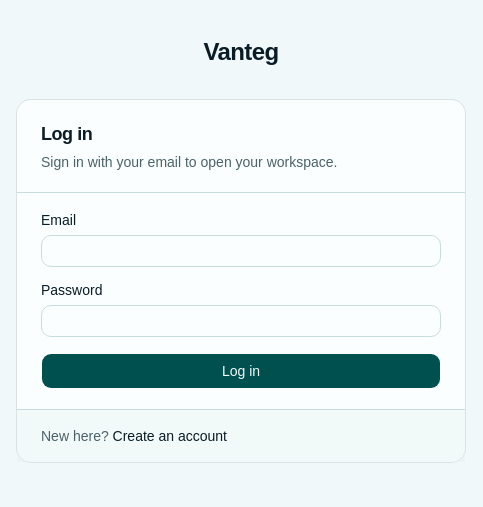
Test: LoginPage › stays on login and shows an error when the session cannot be stored
Type "alex@vanteg.test" into the field labelled "Email". click: (241, 251)
box: 41,235 -> 441,267
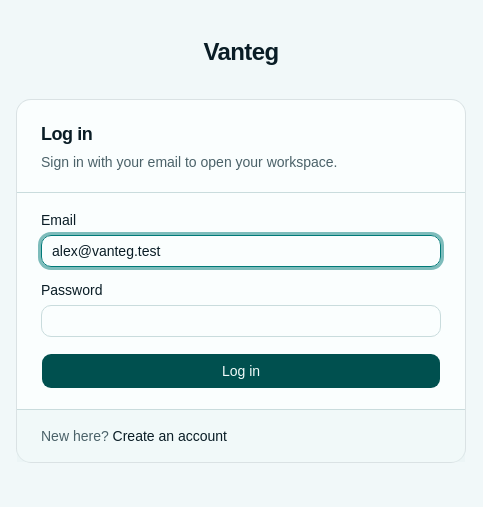
Type "secret" into the field labelled "Password". click: (241, 321)
box: 41,305 -> 441,337
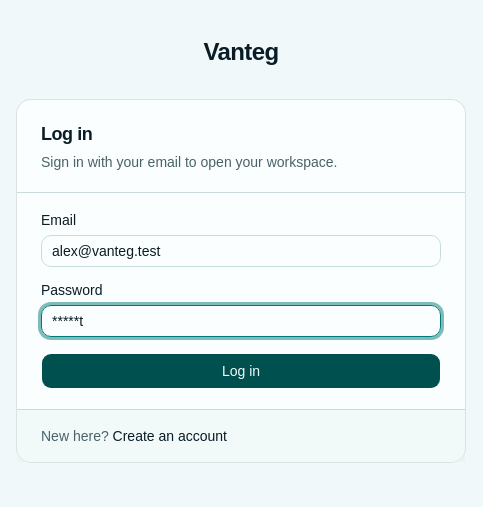
Click the button "Log in". click: (241, 371)
box: 41,353 -> 441,389
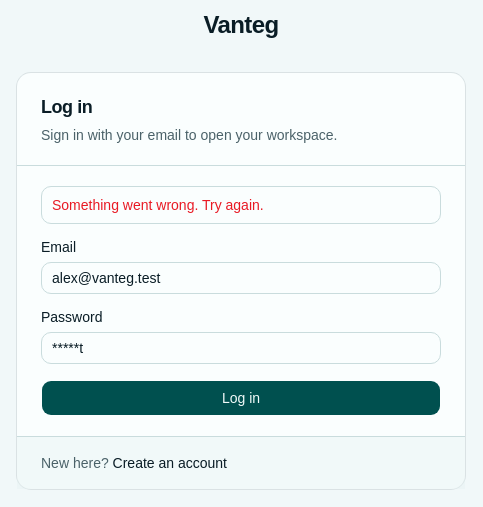
Result: the text "Something went wrong. Try again." is shown at 52,197 -> 264,213
